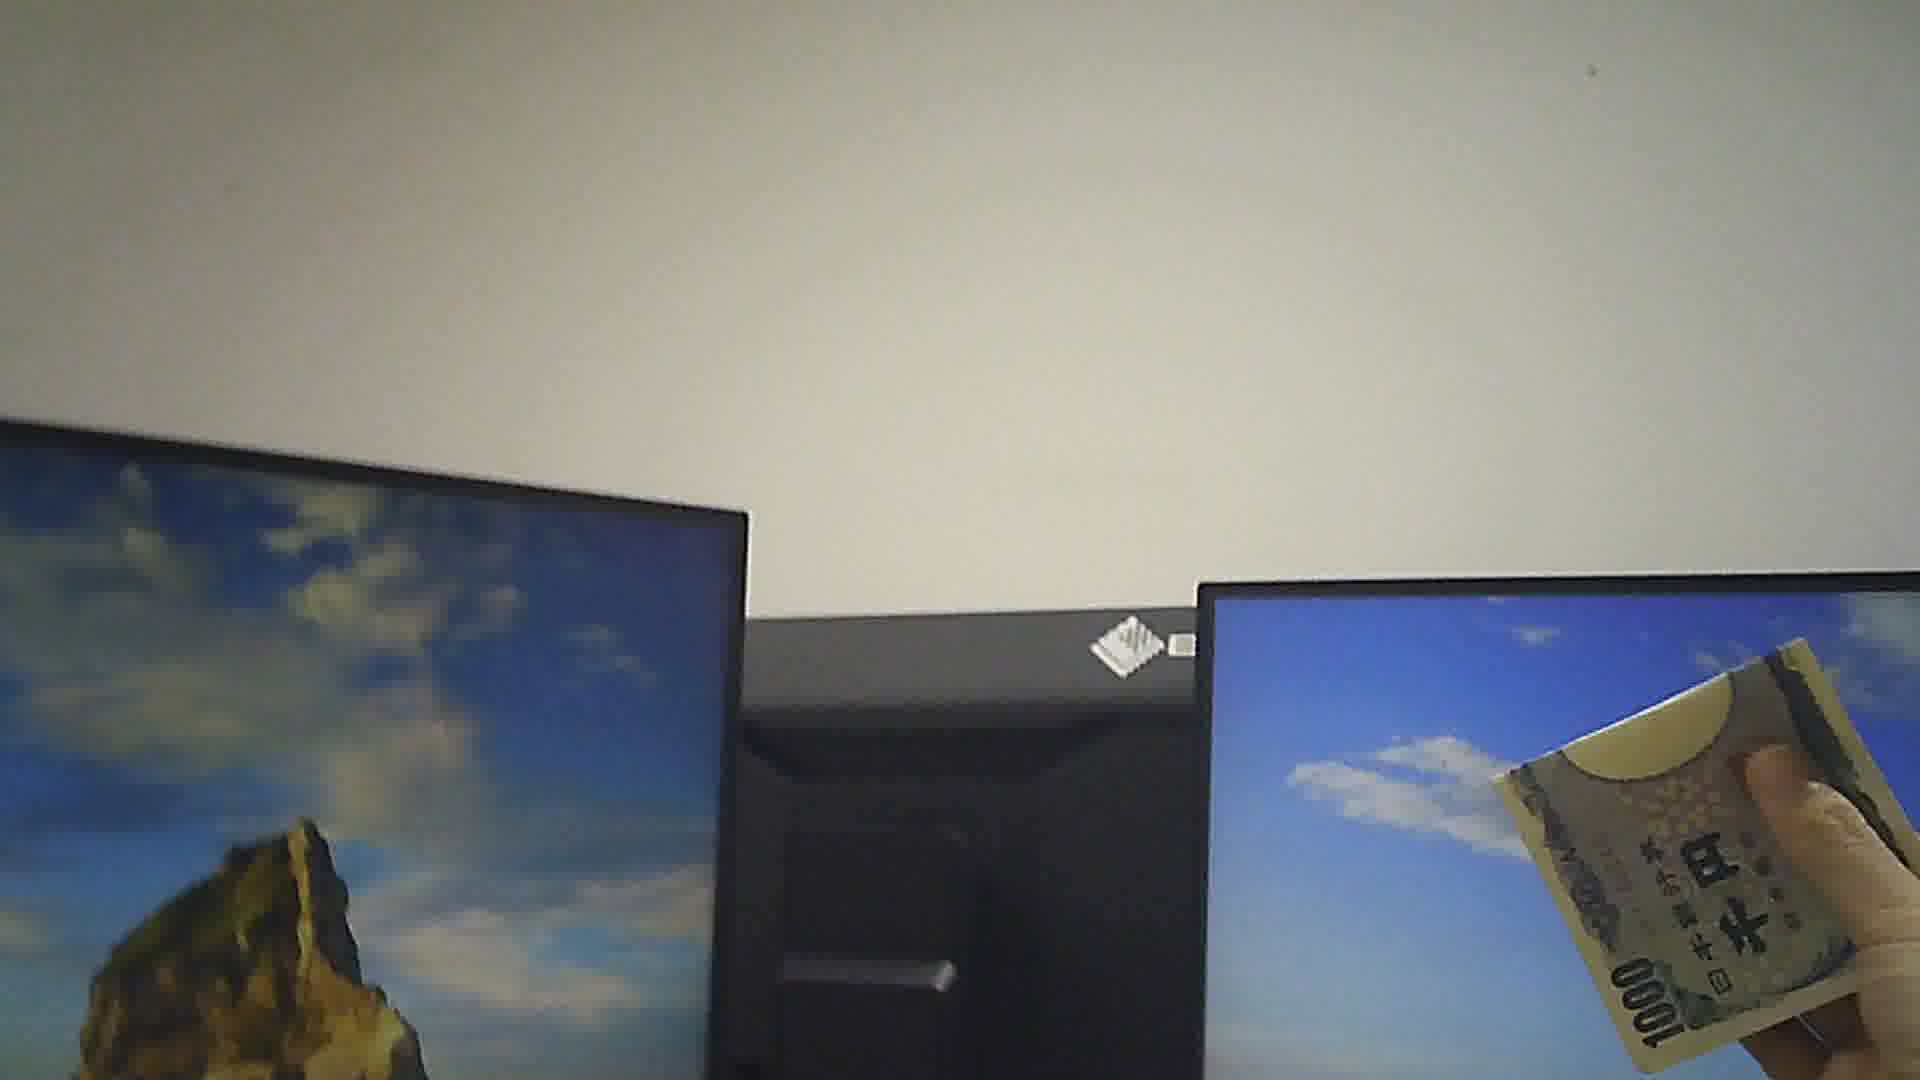1,000 Yen: (1507, 633, 1908, 1079)
